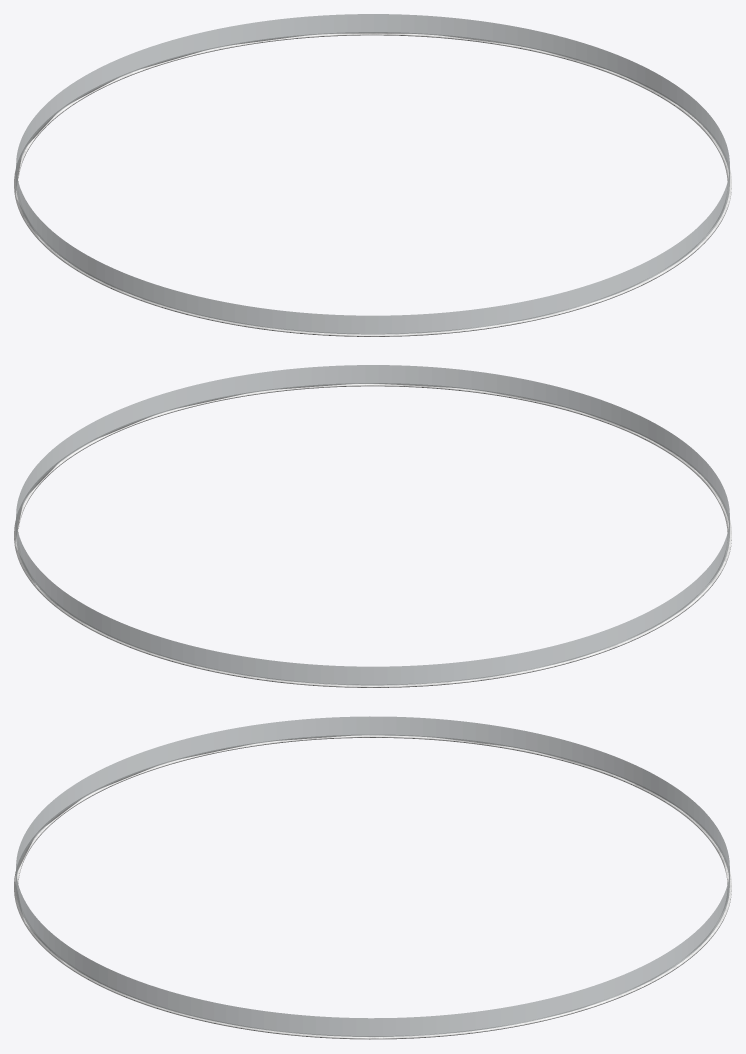
Rendered from balcony.glb.
3 views of the same model, one above another, from view 1: azimuth 30°, elevation 25°; view 2: azimuth 150°, elevation 25°; view 3: azimuth 270°, elevation 25° (orthographic).
Visible parts, largest first — view 1: balkons, Cylinder; view 2: balkons, Cylinder; view 3: balkons, Cylinder.
Part boxes in pixels (left/top/right/bottom): balkons: left=16, top=14, right=729, bottom=334; Cylinder: left=14, top=32, right=731, bottom=336; balkons: left=16, top=365, right=729, bottom=685; Cylinder: left=14, top=383, right=731, bottom=687; balkons: left=16, top=716, right=729, bottom=1036; Cylinder: left=14, top=735, right=731, bottom=1039.
Size of the model in its own units: 68.8 by 2.16 by 68.79.
2 materials, 1 textured.
